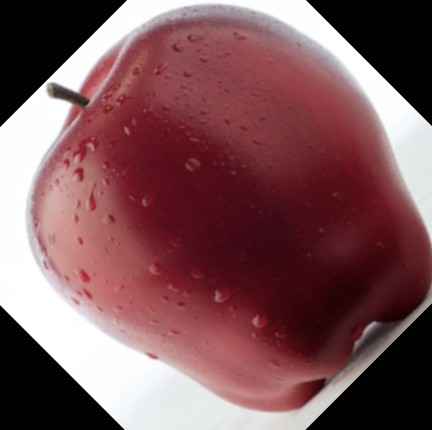fresh_apple: (28, 2, 432, 412)
